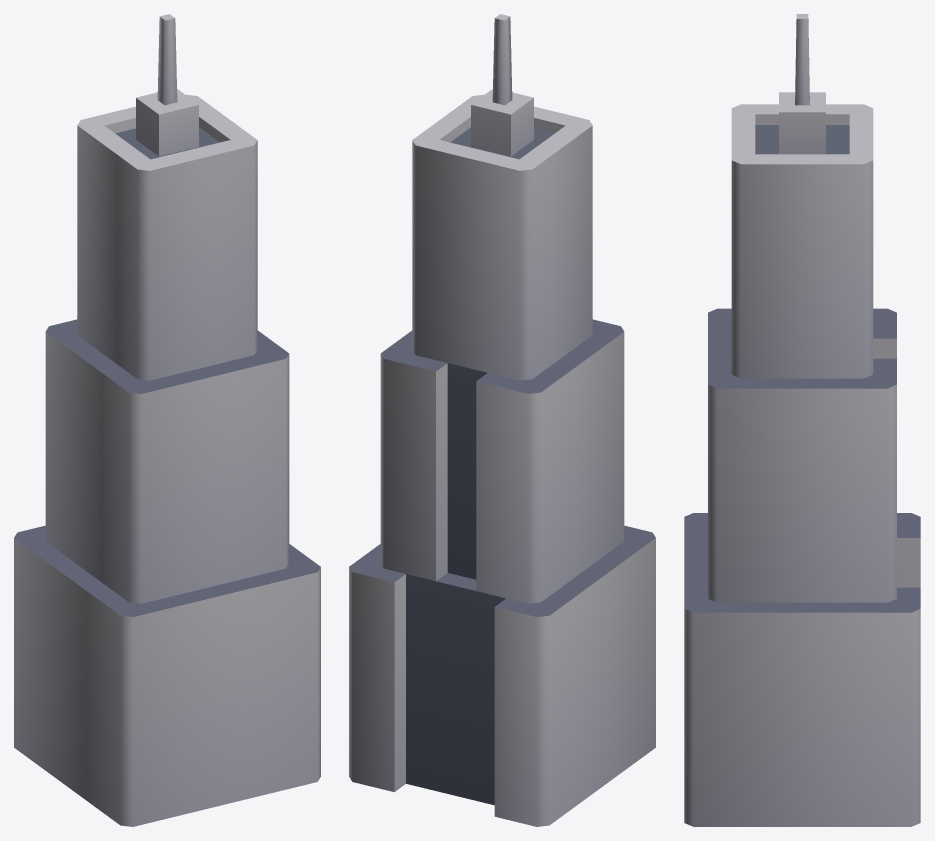
File: low-detail-building-i.glb
3 views of the same model, side by side, from view 1: azimuth 30°, elevation 25°; view 2: azimuth 150°, elevation 25°; view 3: azimuth 270°, elevation 25° (orthographic). The views are drawn at different scales.
Visible parts, largest first — view 1: low-detail-building-i; view 2: low-detail-building-i; view 3: low-detail-building-i.
Part boxes in pixels (box(x1,y1,x2,y2)): low-detail-building-i: box(14, 14, 320, 826); low-detail-building-i: box(349, 14, 655, 826); low-detail-building-i: box(684, 14, 920, 826).
Bounding box in the file's own units: 0.5 × 1.77 × 0.5.
